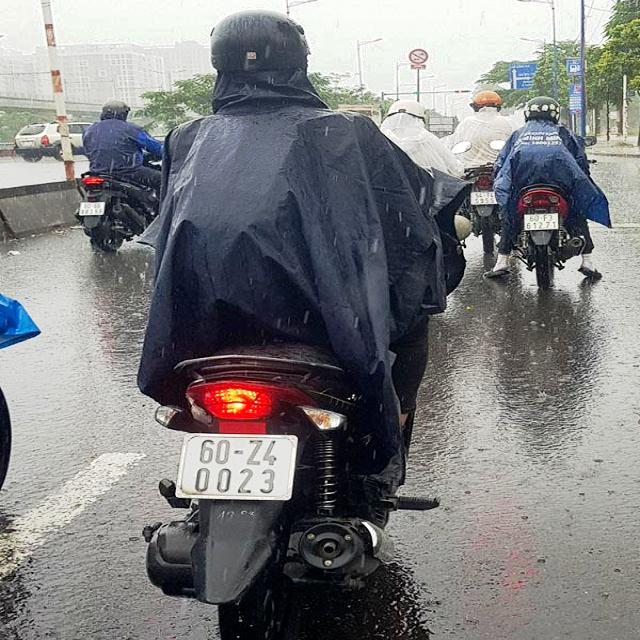license_plate: (181, 435, 299, 501)
